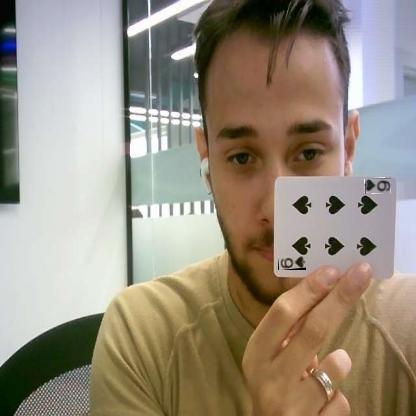6S: (365, 178, 391, 194), (278, 256, 306, 270)
